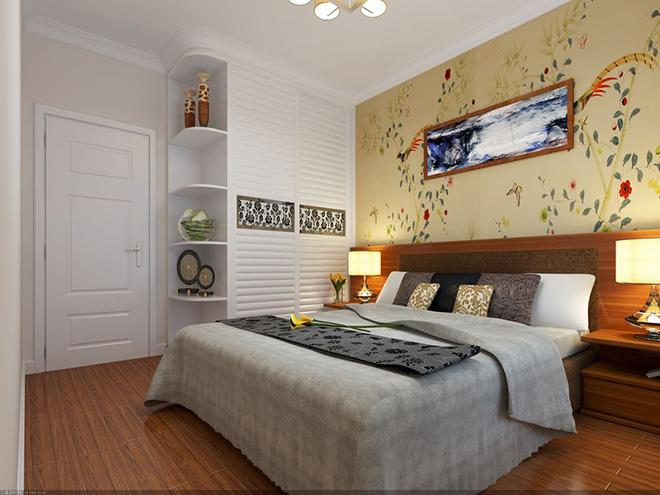床: (150, 300, 597, 482)
枕头: (373, 268, 598, 327)
灯: (611, 238, 660, 332), (279, 2, 393, 24), (346, 249, 383, 301)
